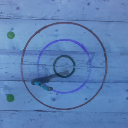Axe Tip: (41, 78, 51, 82)
